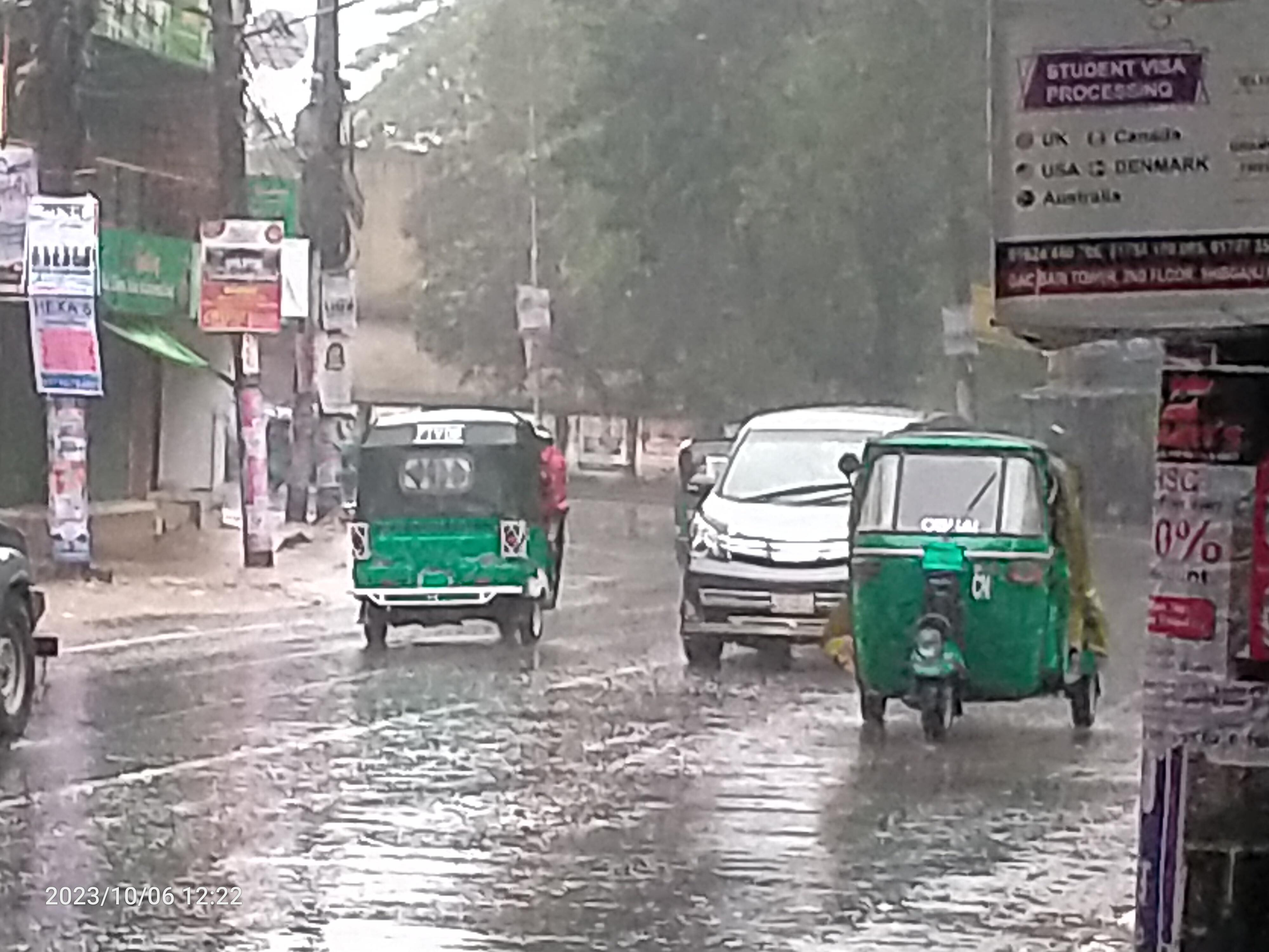Car: (653, 372, 847, 681)
